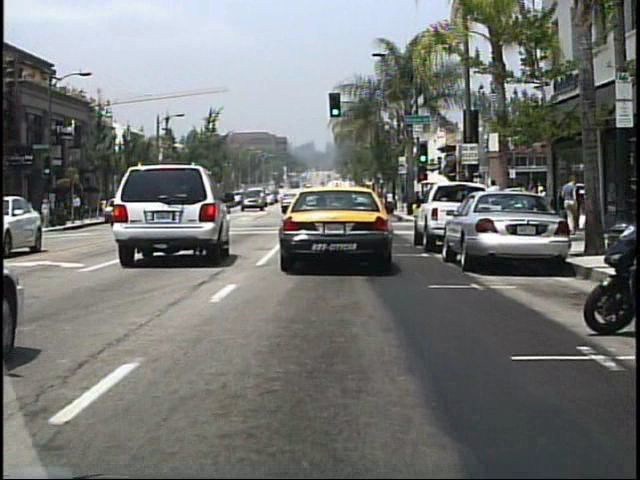person: (524, 177, 545, 236), (561, 174, 581, 235)
